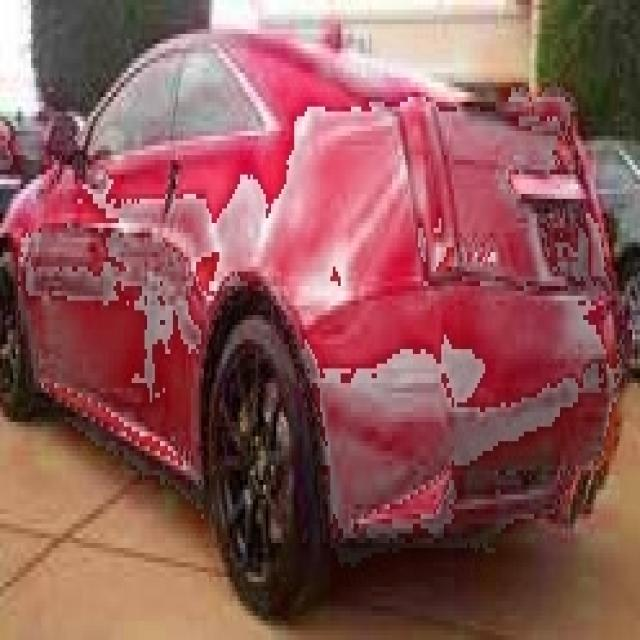maroon: (2, 17, 640, 531)
